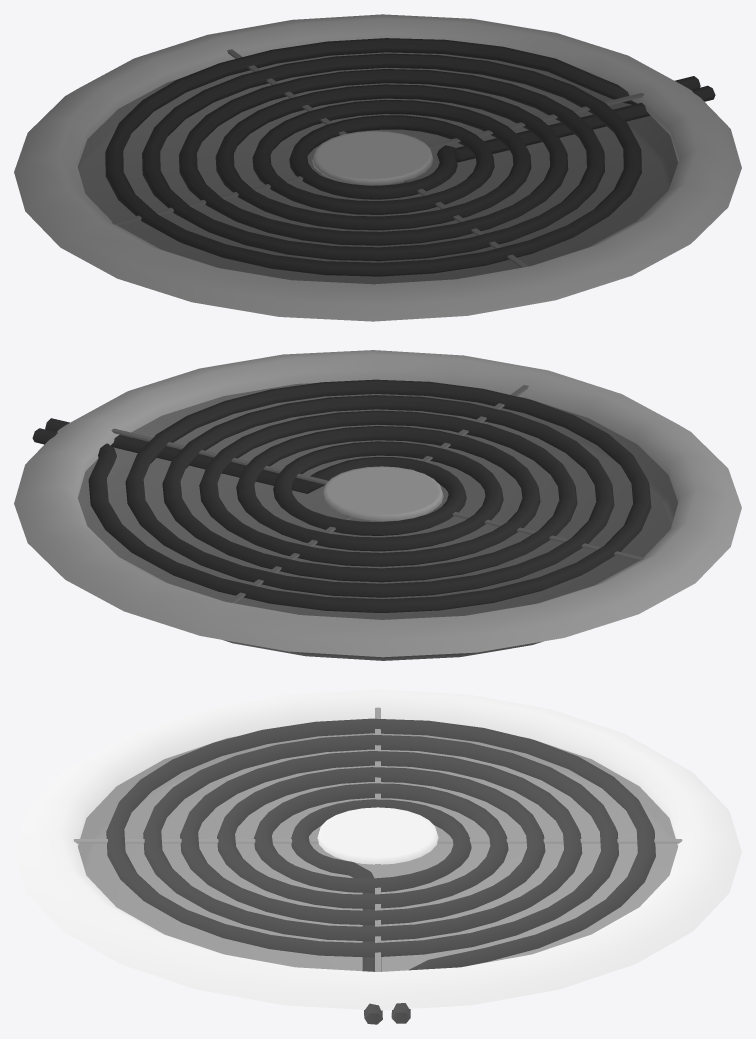
3 renders of one model, top to bottom at view 1: azimuth 30°, elevation 25°; view 2: azimuth 150°, elevation 25°; view 3: azimuth 270°, elevation 25°, orthographic. The views are drawn at different scales.
Visible parts, largest first — view 1: Mesh_32f38e31; view 2: Mesh_32f38e31; view 3: Mesh_32f38e31.
Boxes of the visible parts, bbox=[...] form: Mesh_32f38e31: bbox=[14, 14, 741, 321]; Mesh_32f38e31: bbox=[14, 350, 741, 660]; Mesh_32f38e31: bbox=[14, 689, 741, 1024].
Size of the model in its own units: 0.2759 by 0.0227 by 0.262.
